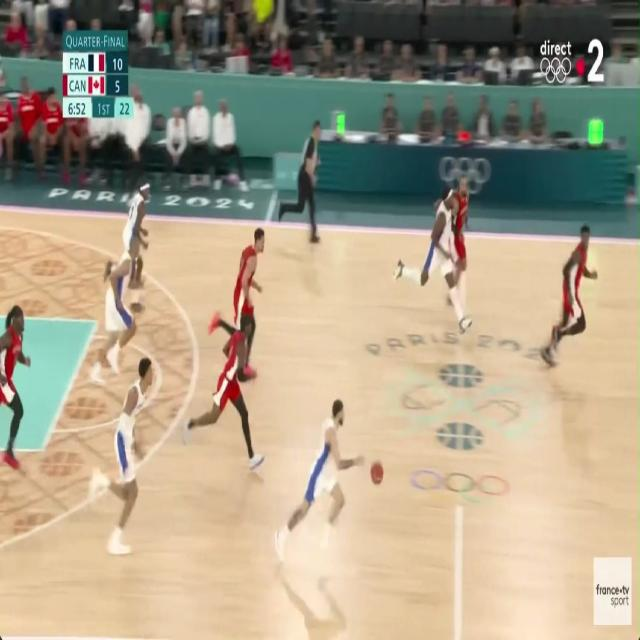ball_handler: (277, 395, 389, 563)
